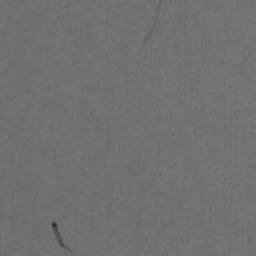Inclusion: (51, 221, 73, 253), (143, 21, 159, 46)
